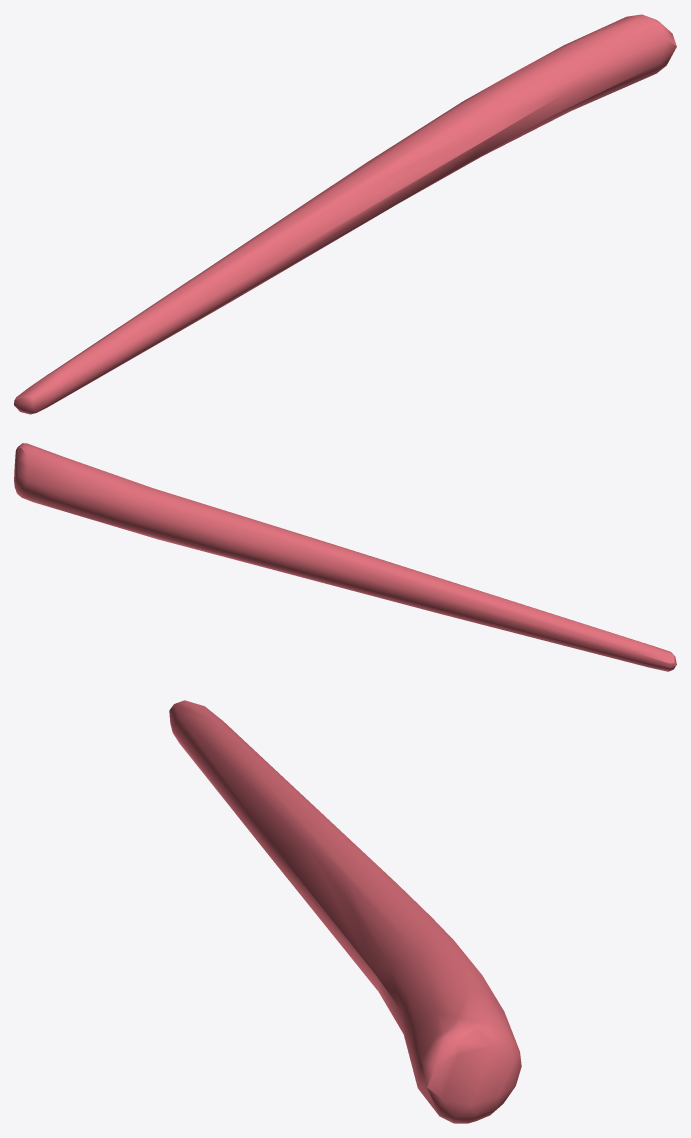
The model's file is fma9425_fj3060.glb.
The picture shows the model from 3 angles, top to bottom: view 1: azimuth 30°, elevation 25°; view 2: azimuth 150°, elevation 25°; view 3: azimuth 270°, elevation 25°; orthographic projection. The views are drawn at different scales.
Parts seen in each view (by area): view 1: FMA9425_FJ3060; view 2: FMA9425_FJ3060; view 3: FMA9425_FJ3060.
Boxes of the visible parts, box(x1,y1,x2,y2) form: FMA9425_FJ3060: box(14, 14, 676, 414); FMA9425_FJ3060: box(14, 443, 676, 671); FMA9425_FJ3060: box(169, 700, 521, 1123).
Size of the model in its own units: 0.0569 by 0.0123 by 0.0145.
